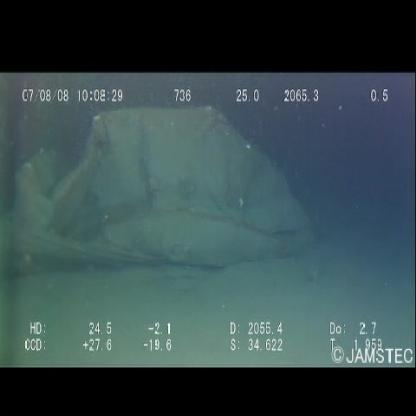Rác: (1, 101, 326, 275)
